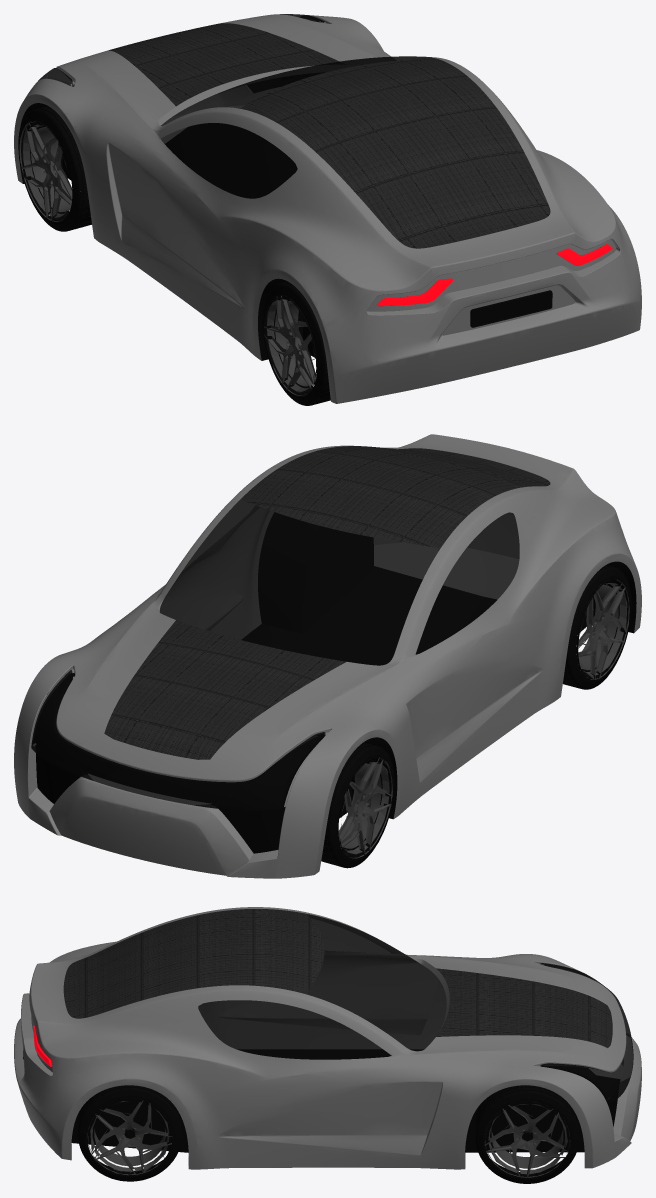
File: littlecarbody.glb
3 views of the same model, one above another, from view 1: azimuth 30°, elevation 25°; view 2: azimuth 150°, elevation 25°; view 3: azimuth 270°, elevation 25° (orthographic). The views are drawn at different scales.
Visible parts, largest first — view 1: tuecolowpol; view 2: tuecolowpol; view 3: tuecolowpol.
Boxes of the visible parts, left/top/right/bottom form: tuecolowpol: left=14, top=14, right=641, bottom=405; tuecolowpol: left=14, top=434, right=641, bottom=878; tuecolowpol: left=14, top=907, right=641, bottom=1183.
Bounding box in the file's own units: 6.92 × 4.47 × 14.07.
Materials: 6 (1 with a texture image).
